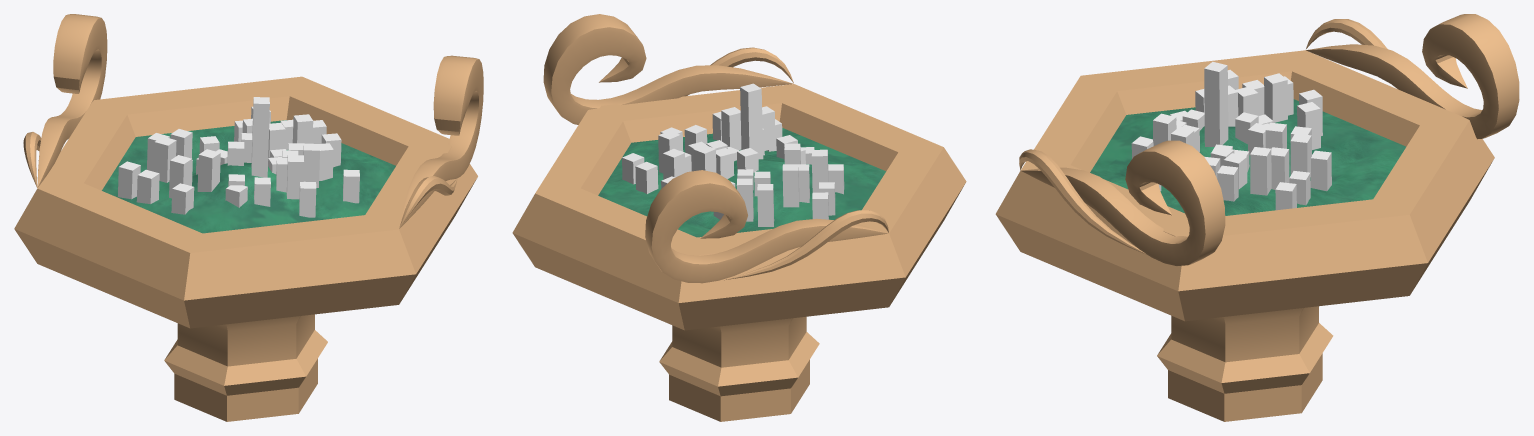
File: AppGameRoomSideTable.fbx
The picture shows the model from 3 angles, left to right: view 1: azimuth 30°, elevation 25°; view 2: azimuth 150°, elevation 25°; view 3: azimuth 270°, elevation 25°; orthographic projection. The views are drawn at different scales.
Visible parts, largest first — view 1: NurbsPath.005; view 2: NurbsPath.005; view 3: NurbsPath.005.
Part boxes in pixels (box(x1,y1,x2,y2)): NurbsPath.005: box(14, 14, 483, 421); NurbsPath.005: box(512, 14, 966, 421); NurbsPath.005: box(995, 14, 1519, 421).
Bounding box in the file's own units: 488 × 346 × 490.
4 materials, 1 textured.
